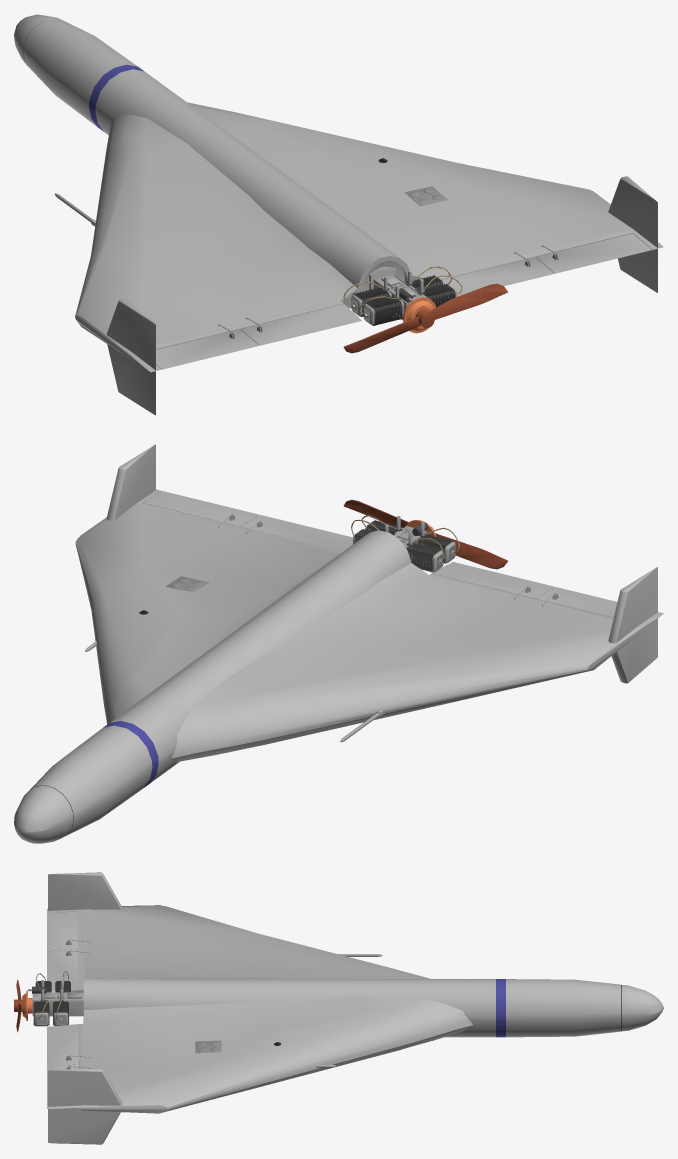
The model's file is shahed136.glb.
3 views of the same model, one above another, from view 1: azimuth 30°, elevation 25°; view 2: azimuth 150°, elevation 25°; view 3: azimuth 270°, elevation 25° (orthographic). The views are drawn at different scales.
Visible parts, largest first — view 1: shahed136; view 2: shahed136; view 3: shahed136.
Boxes of the visible parts, x1,y1,x2,y2 form: shahed136: (14, 14, 663, 415); shahed136: (14, 444, 663, 843); shahed136: (14, 872, 663, 1144).
Bounding box in the file's own units: 2.56 × 0.4408 × 3.5.
